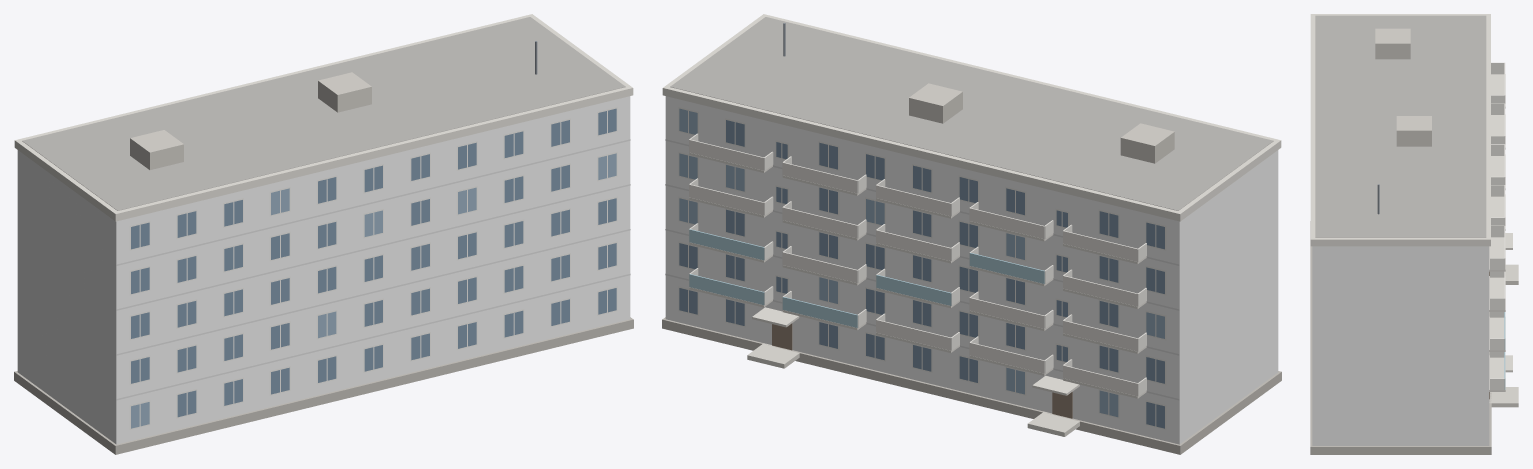
The model's file is khrushchevka_36.glb.
3 views of the same model, side by side, from view 1: azimuth 30°, elevation 25°; view 2: azimuth 150°, elevation 25°; view 3: azimuth 270°, elevation 25° (orthographic). The views are drawn at different scales.
Parts seen in each view (by area): view 1: Khrushchevka36; view 2: Khrushchevka36; view 3: Khrushchevka36.
Part boxes in pixels (<box>): Khrushchevka36: <box>14,14,633,454</box>; Khrushchevka36: <box>662,14,1281,454</box>; Khrushchevka36: <box>1310,14,1518,454</box>.
Size of the model in its own units: 36.3 by 18.3 by 14.15.
